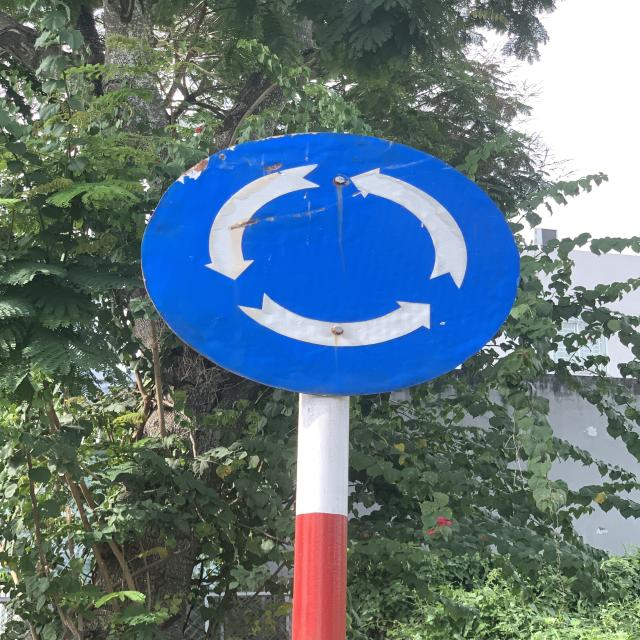Xe_Bus: (140, 132, 530, 397)
